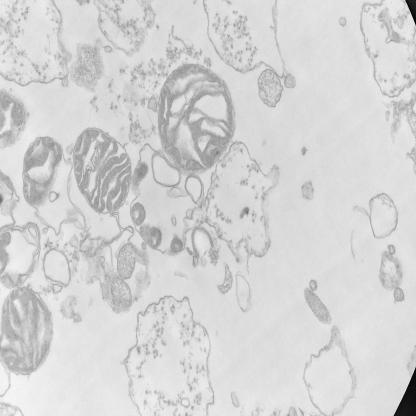mitochondria: (154, 63, 237, 177), (70, 125, 134, 215), (0, 285, 53, 379)
